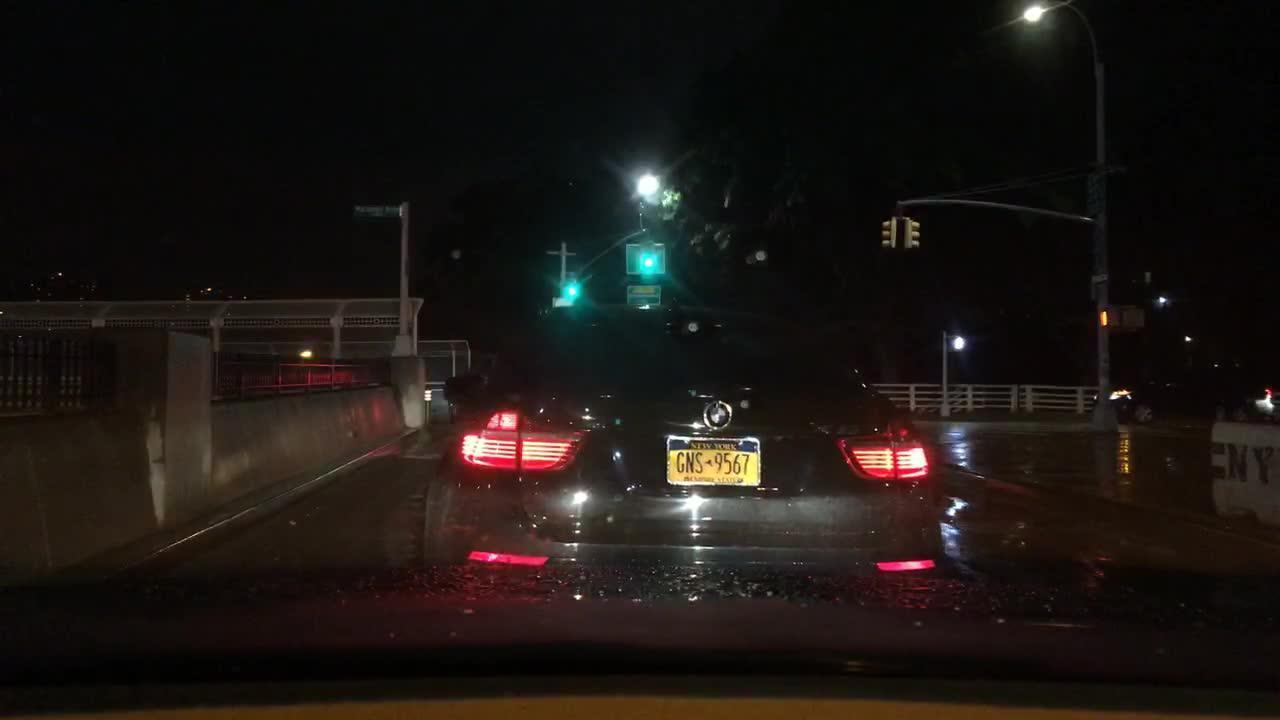bmw: (697, 395, 738, 433)
